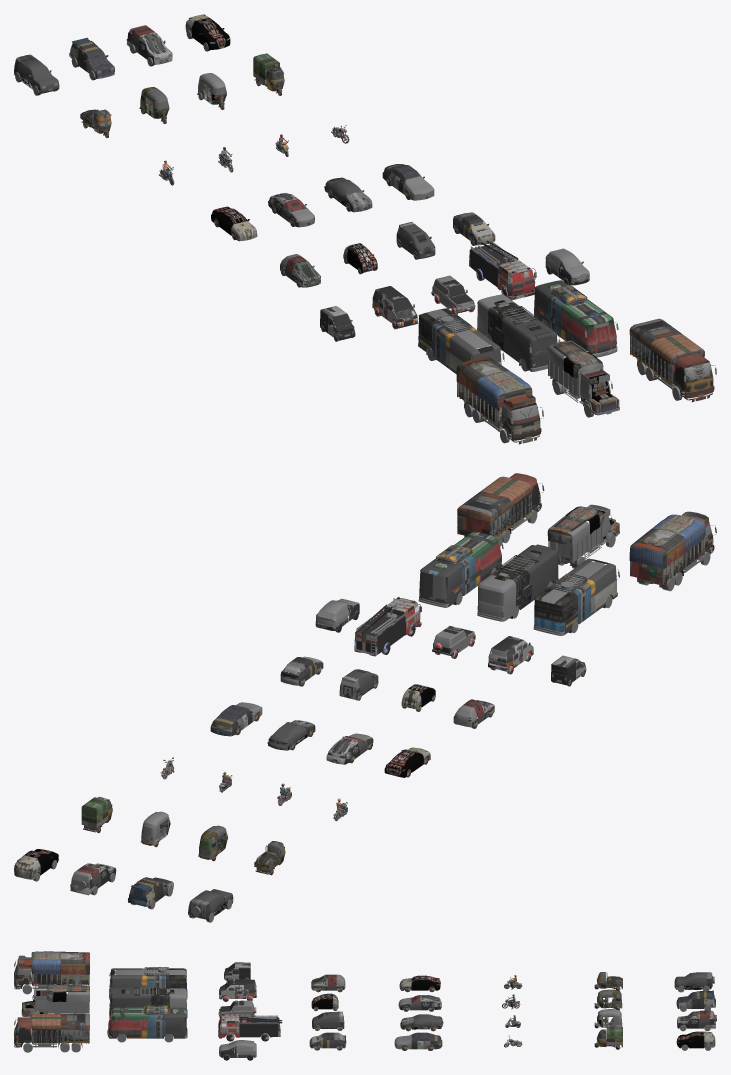
File: traffic.glb
The picture shows the model from 3 angles, top to bottom: view 1: azimuth 30°, elevation 25°; view 2: azimuth 150°, elevation 25°; view 3: azimuth 270°, elevation 25°; orthographic projection. The views are drawn at different scales.
Visible parts, largest first — view 1: Traffic_Truck_02_Body, Traffic_Truck_03_Body, Traffic_Bus_03_Body, Traffic_Bus_01_Body, Traffic_Truck_01_Body, Traffic_Bus_02_Body, traffic_emergency_03, traffic_emergency_02, Traffic_Luxury_04_Body, Traffic_SUV_01_Body, Traffic_SUV_03_Body, Traffic_SUV_02_Body (+13 smaller); view 2: Traffic_Truck_02_Body, Traffic_Bus_02_Body, Traffic_Bus_03_Body, Traffic_Bus_01_Body, Traffic_Truck_03_Body, Traffic_Truck_01_Body, traffic_emergency_03, Traffic_Luxury_04_Body, traffic_emergency_02, traffic_ev_02, Traffic_SUV_02_Body, Traffic_SUV_03_Body (+13 smaller); view 3: Traffic_Truck_02_Body, Traffic_Bus_03_Body, Traffic_Truck_03_Body, Traffic_Truck_01_Body, Traffic_Bus_02_Body, Traffic_Bus_01_Body, traffic_emergency_03, Traffic_Luxury_04_Body, traffic_emergency_02, Traffic_SUV_02_Body, Traffic_SUV_03_Body, Traffic_SUV_01_Body (+15 smaller).
Boxes of the visible parts, x1=… form: Traffic_Truck_02_Body: x1=456, y1=357, x2=543, y2=444; Traffic_Truck_03_Body: x1=629, y1=318, x2=716, y2=402; Traffic_Bus_03_Body: x1=534, y1=280, x2=618, y2=357; Traffic_Bus_01_Body: x1=477, y1=294, x2=560, y2=371; Traffic_Truck_01_Body: x1=547, y1=340, x2=619, y2=415; Traffic_Bus_02_Body: x1=418, y1=308, x2=504, y2=374; traffic_emergency_03: x1=469, y1=240, x2=536, y2=300; traffic_emergency_02: x1=372, y1=286, x2=418, y2=328; Traffic_Luxury_04_Body: x1=382, y1=164, x2=434, y2=200; Traffic_SUV_01_Body: x1=69, y1=37, x2=114, y2=78; Traffic_SUV_03_Body: x1=14, y1=54, x2=59, y2=93; Traffic_SUV_02_Body: x1=126, y1=25, x2=172, y2=64; Traffic_Truck_02_Body: x1=629, y1=511, x2=716, y2=588; Traffic_Bus_02_Body: x1=533, y1=558, x2=619, y2=635; Traffic_Bus_03_Body: x1=418, y1=532, x2=503, y2=607; Traffic_Bus_01_Body: x1=477, y1=544, x2=560, y2=621; Traffic_Truck_03_Body: x1=457, y1=473, x2=544, y2=537; Traffic_Truck_01_Body: x1=547, y1=504, x2=619, y2=566; traffic_emergency_03: x1=354, y1=598, x2=421, y2=655; Traffic_Luxury_04_Body: x1=210, y1=702, x2=262, y2=736; traffic_emergency_02: x1=488, y1=637, x2=533, y2=671; traffic_ev_02: x1=315, y1=598, x2=359, y2=630; Traffic_SUV_02_Body: x1=70, y1=863, x2=116, y2=895; Traffic_SUV_03_Body: x1=188, y1=889, x2=233, y2=919; Traffic_Truck_02_Body: x1=14, y1=951, x2=89, y2=989; Traffic_Bus_03_Body: x1=107, y1=1005, x2=187, y2=1038; Traffic_Truck_03_Body: x1=14, y1=1014, x2=89, y2=1047; Traffic_Truck_01_Body: x1=21, y1=984, x2=89, y2=1016; Traffic_Bus_02_Body: x1=109, y1=967, x2=187, y2=999; Traffic_Bus_01_Body: x1=109, y1=986, x2=187, y2=1018; traffic_emergency_03: x1=218, y1=1013, x2=282, y2=1038; Traffic_Luxury_04_Body: x1=394, y1=1032, x2=442, y2=1049; traffic_emergency_02: x1=219, y1=979, x2=256, y2=999; Traffic_SUV_02_Body: x1=677, y1=1010, x2=716, y2=1028; Traffic_SUV_03_Body: x1=674, y1=972, x2=714, y2=989; Traffic_SUV_01_Body: x1=676, y1=990, x2=715, y2=1008.
Size of the model in its own units: 21.99 by 4.13 by 76.35.
Materials: 98 (98 with a texture image).
